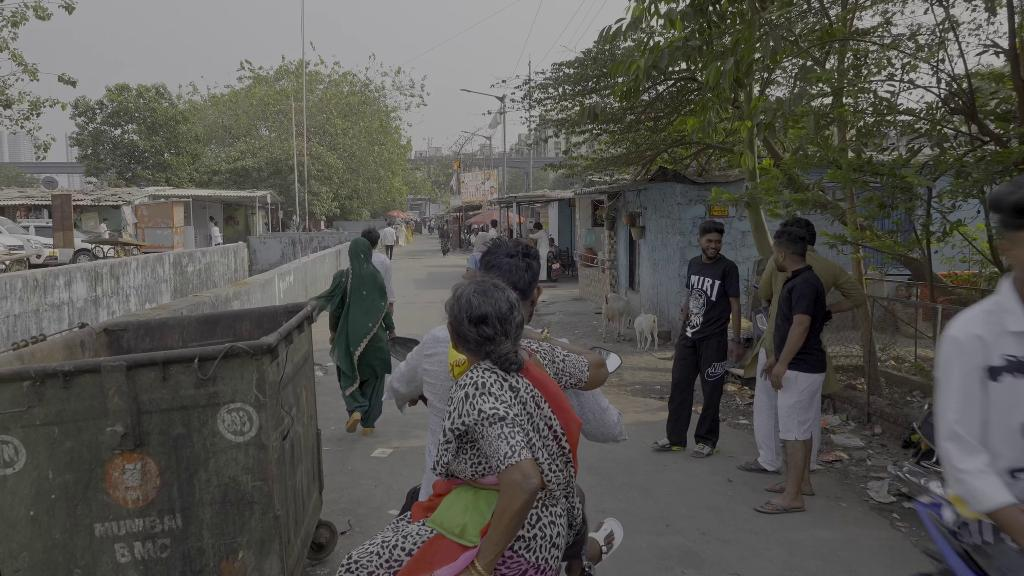dustbin: (0, 300, 323, 576)
